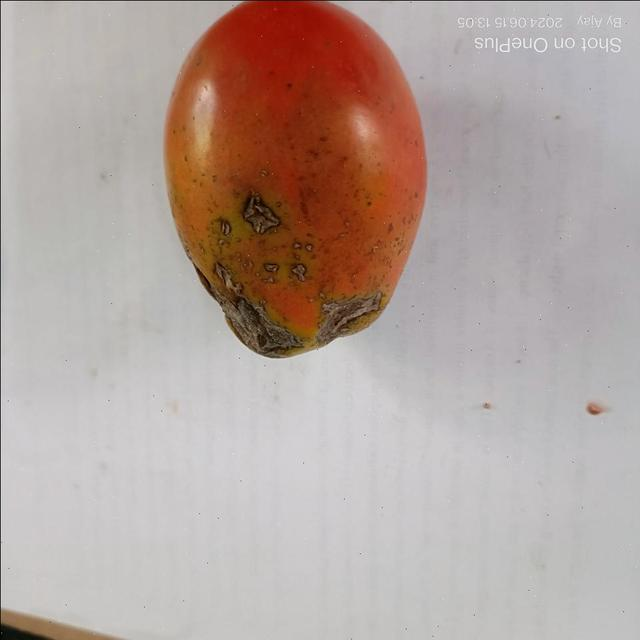Bacterial Spot Fruit: (44, 34, 195, 205)
